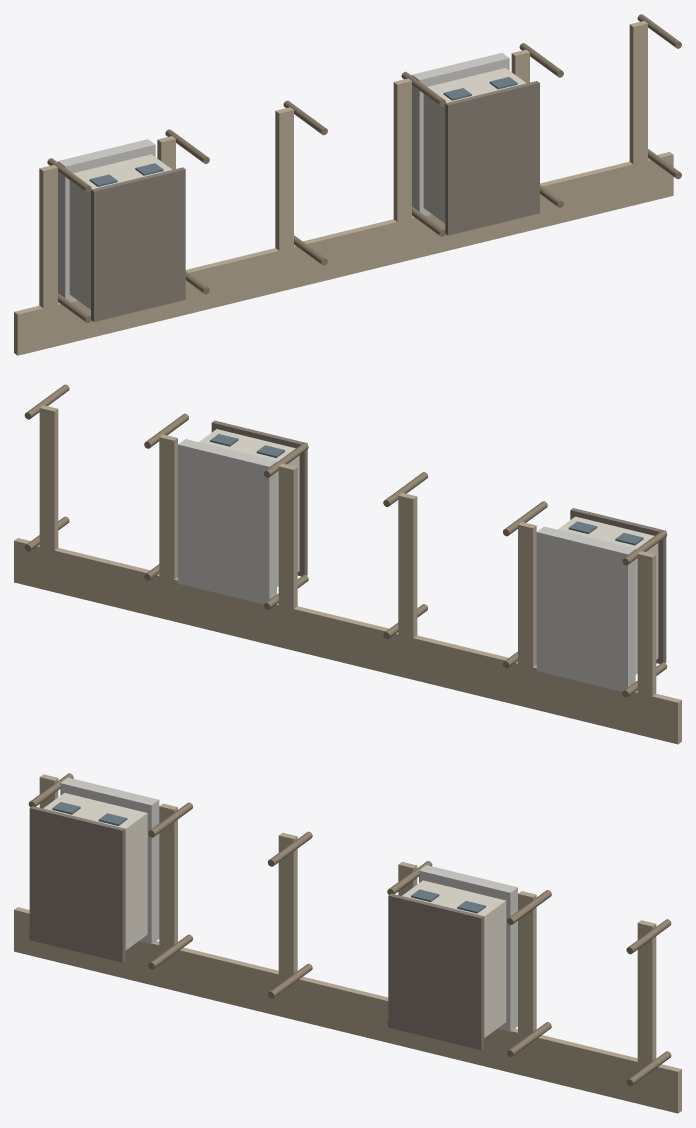
File: r-156-redwood-creek-marina-houseboats.glb
3 renders of one model, top to bottom at view 1: azimuth 30°, elevation 25°; view 2: azimuth 150°, elevation 25°; view 3: azimuth 330°, elevation 25°, orthographic.
Visible parts, largest first — view 1: dock, roofs, cabins, floats, piles, windows; view 2: dock, floats, roofs, piles, cabins, windows; view 3: dock, roofs, cabins, floats, piles, windows.
Boxes of the visible parts, x1,y1,x2,y2 form: dock: (14, 21, 673, 355); roofs: (91, 81, 539, 321); cabins: (69, 68, 526, 309); floats: (58, 53, 509, 302); piles: (47, 14, 681, 323); windows: (89, 77, 517, 186); dock: (14, 405, 681, 744); floats: (178, 439, 635, 691); roofs: (211, 420, 666, 663); piles: (24, 384, 667, 697); cabins: (199, 429, 658, 674); windows: (210, 434, 643, 545); dock: (14, 774, 681, 1113); roofs: (29, 806, 484, 1050); cabins: (43, 793, 506, 1037); floats: (60, 777, 517, 1031); piles: (28, 773, 671, 1086); windows: (52, 802, 485, 913).
Size of the model in its own units: 40000 by 10402 by 4399.
